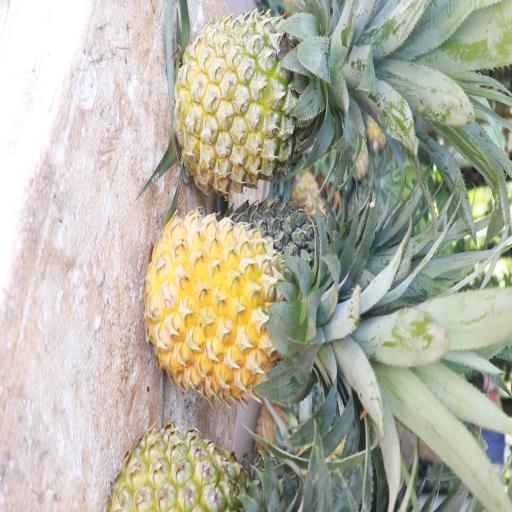------------------------------: (176, 12, 334, 187)
Pineapple - v8 v1: (145, 216, 333, 388)
